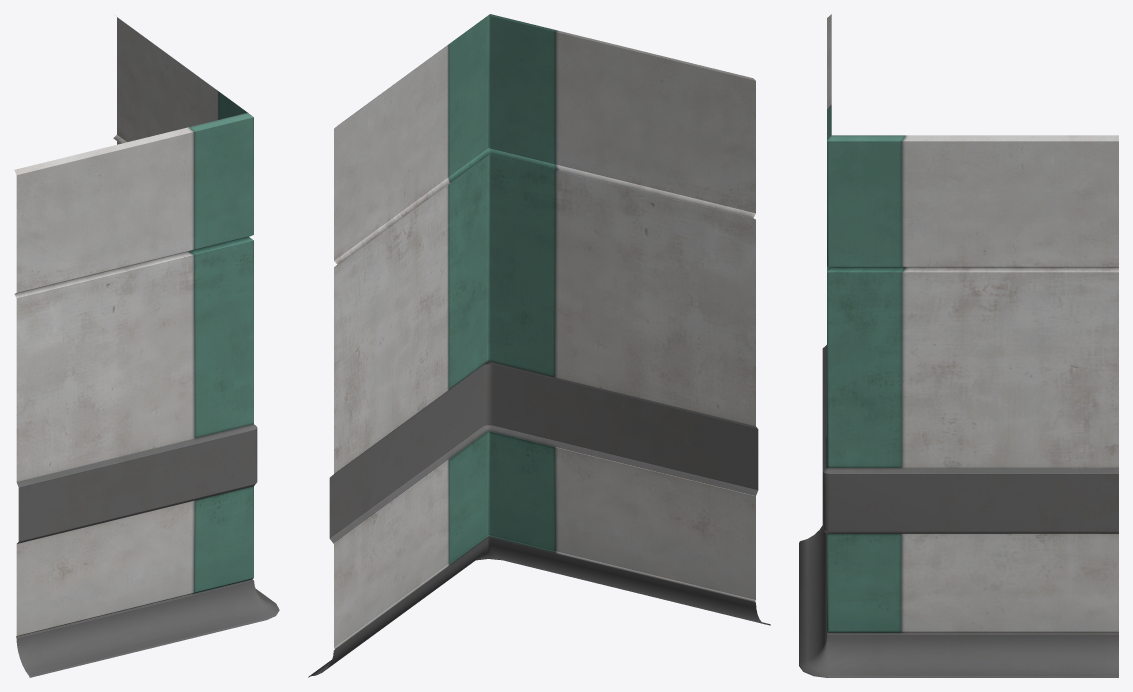
Rendered from hospital_corridor_convex.dae.
3 views of the same model, side by side, from view 1: azimuth 30°, elevation 25°; view 2: azimuth 150°, elevation 25°; view 3: azimuth 270°, elevation 25° (orthographic). The views are drawn at different scales.
Parts seen in each view (by area): view 1: corner_convex; view 2: corner_convex; view 3: corner_convex.
Part boxes in pixels (bbox=[...]): corner_convex: bbox=[14, 15, 279, 677]; corner_convex: bbox=[308, 14, 770, 677]; corner_convex: bbox=[799, 14, 1118, 677].
Size of the model in its own units: 2.19 by 4 by 2.19.
